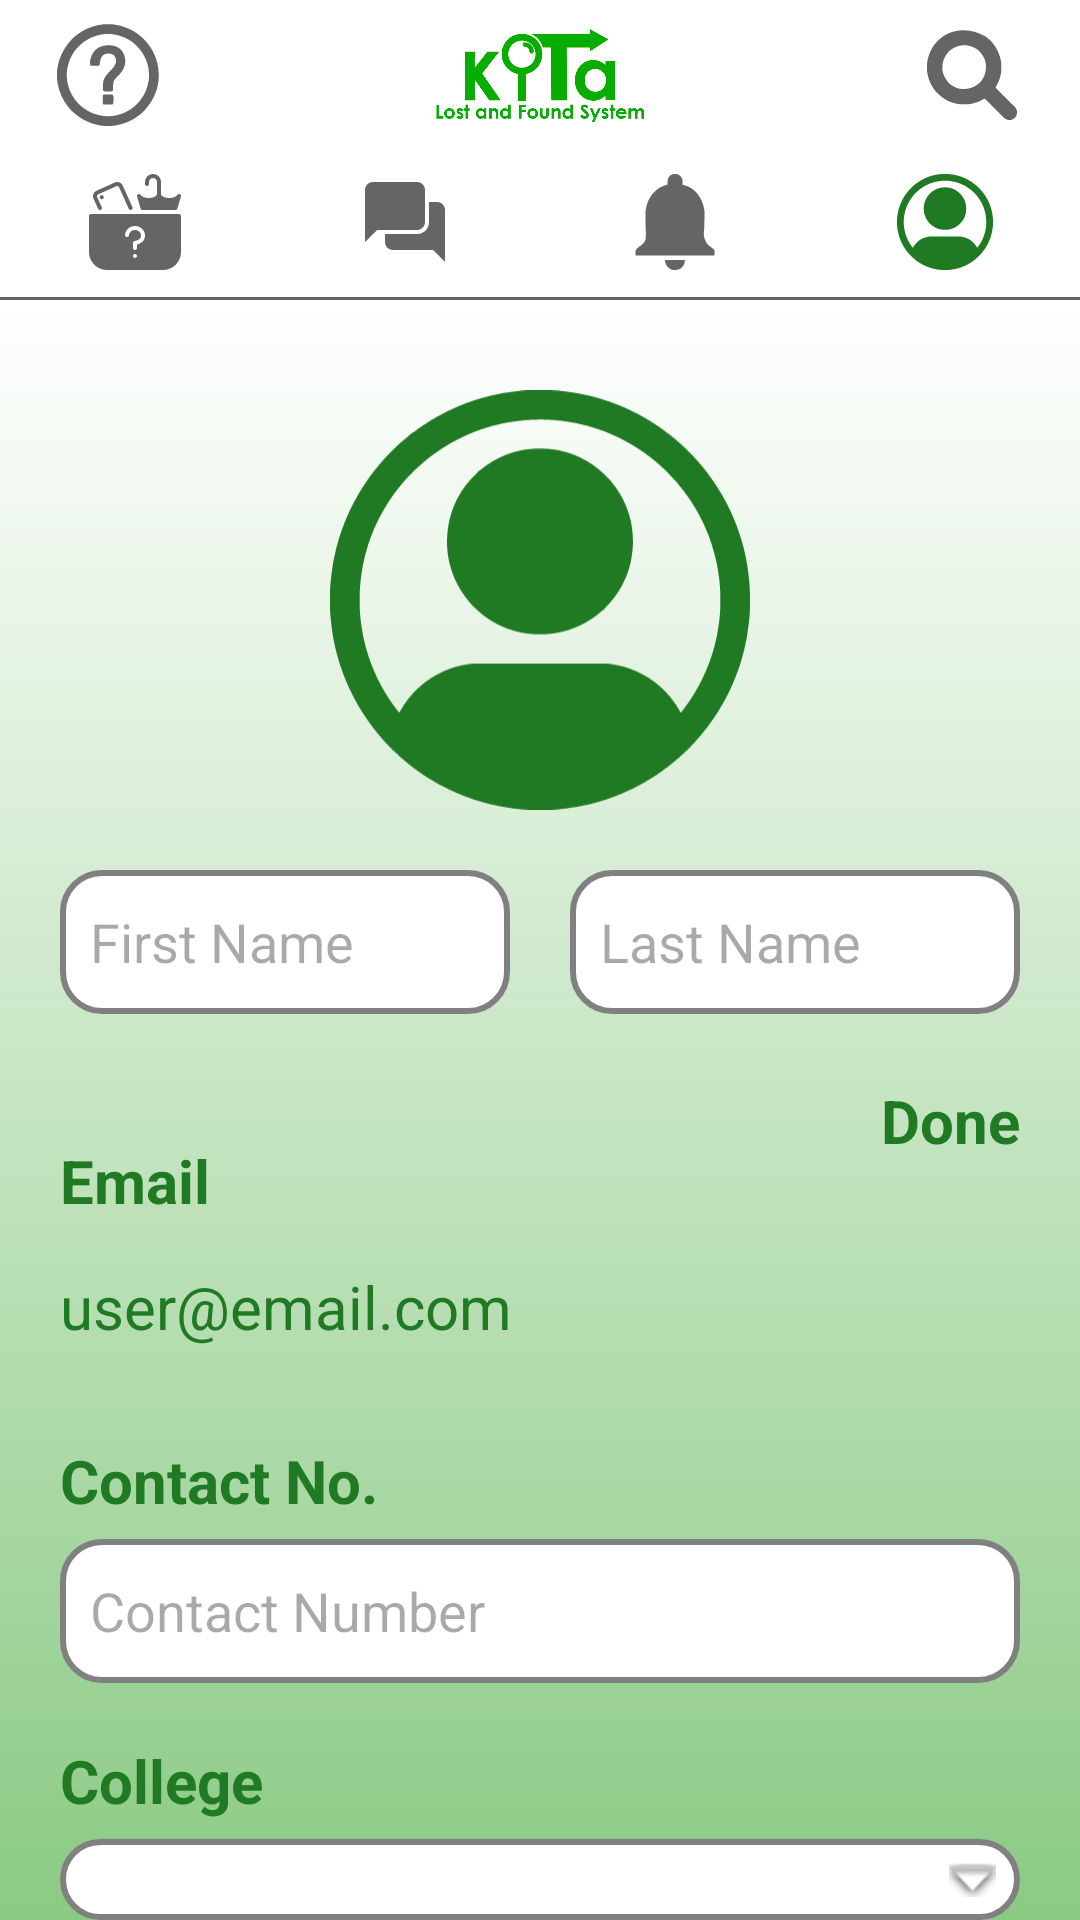

Icon click points for this 1080*1920 phone screenshot, format (x,y):
chat: (405,222)
guide: (108,75)
lost: (135,222)
notification: (675,222)
search: (972,75)
